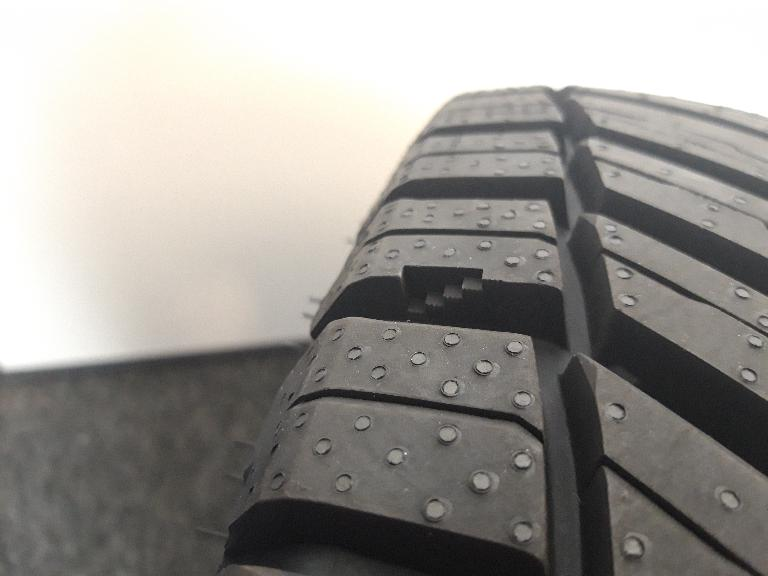temoin:100: (398, 264, 504, 330)
